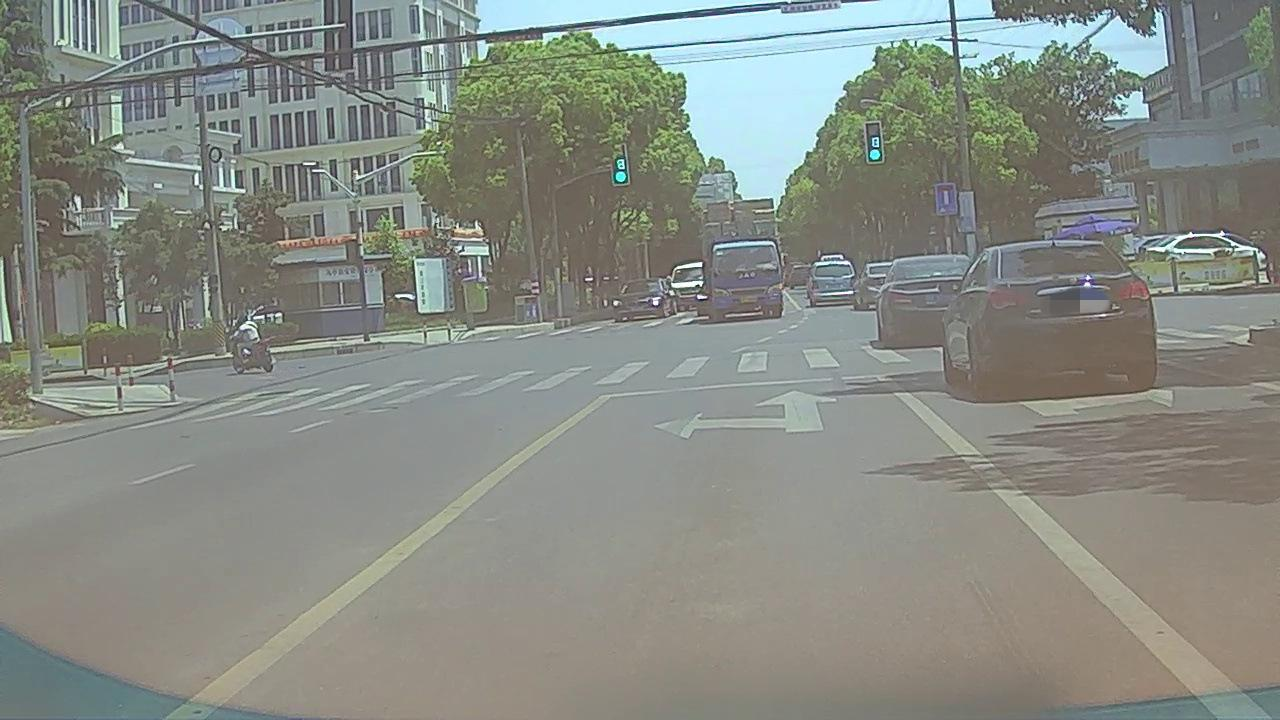traffic_light: (611, 146, 630, 184), (865, 122, 882, 164)
